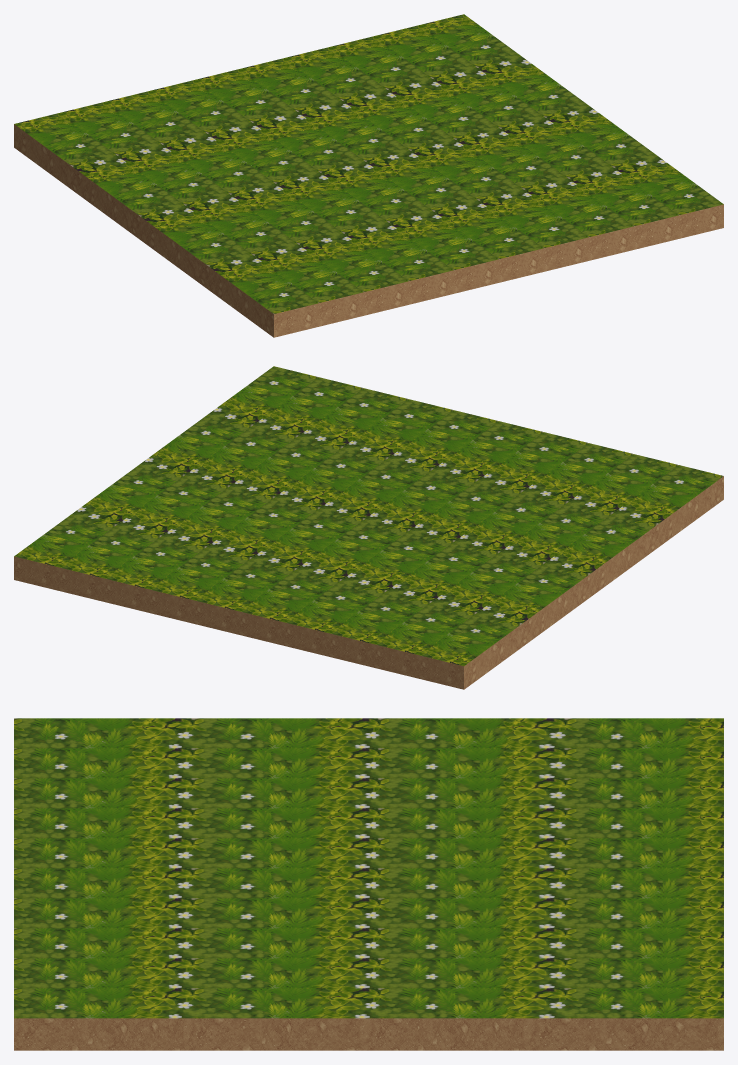
3 renders of one model, top to bottom at view 1: azimuth 30°, elevation 25°; view 2: azimuth 150°, elevation 25°; view 3: azimuth 270°, elevation 25°, orthographic. The views are drawn at different scales.
Visible parts, largest first — view 1: 40x40square; view 2: 40x40square; view 3: 40x40square.
Boxes of the visible parts, box(x1,y1,x2,y2) form: 40x40square: box(14, 14, 723, 337); 40x40square: box(14, 366, 723, 689); 40x40square: box(14, 718, 723, 1050).
Size of the model in its own units: 1575 by 78.74 by 1575.
